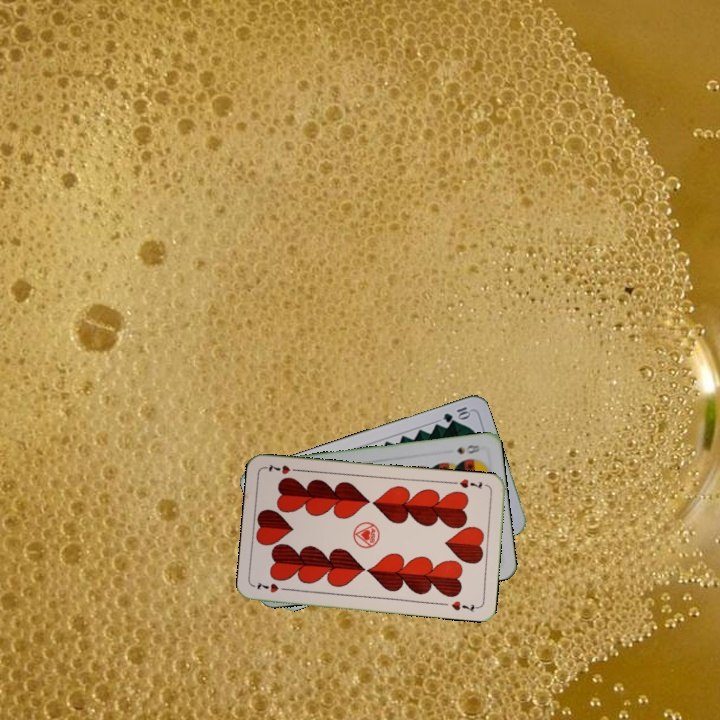G10: (439, 403, 473, 425)
H7: (253, 578, 292, 595), (456, 475, 485, 491)
S8: (453, 441, 482, 456)
